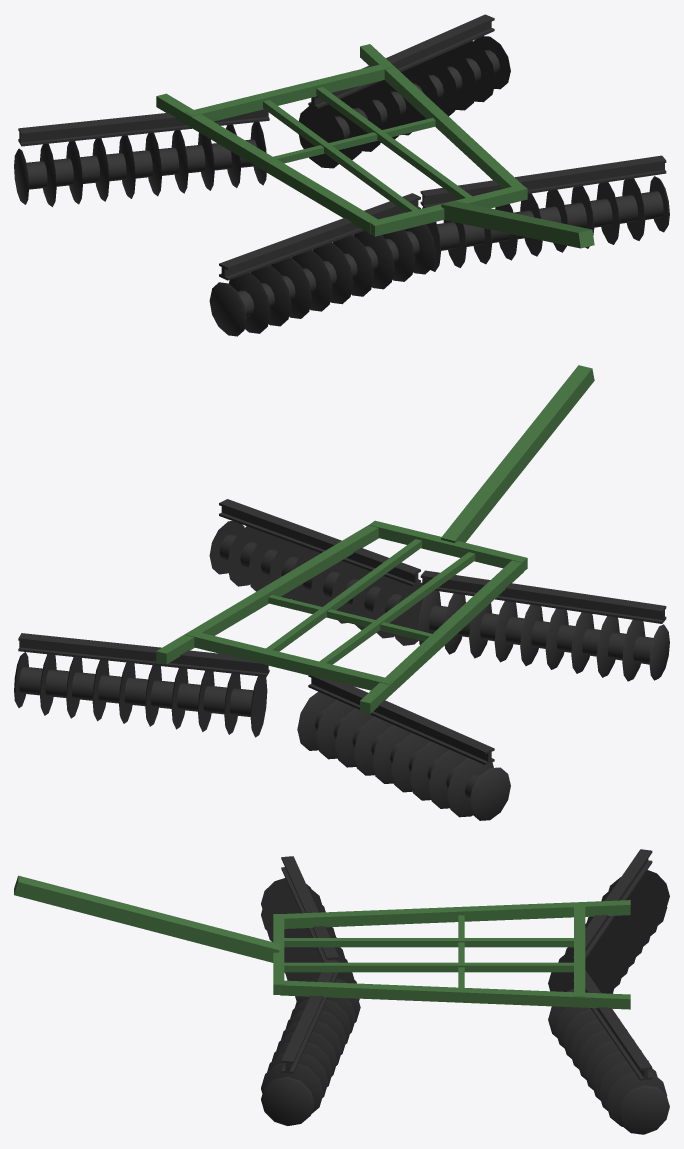
File: plow.fbx
The picture shows the model from 3 angles, top to bottom: view 1: azimuth 30°, elevation 25°; view 2: azimuth 150°, elevation 25°; view 3: azimuth 270°, elevation 25°; orthographic projection. The views are drawn at different scales.
Parts seen in each view (by area): view 1: plow; view 2: plow; view 3: plow.
Part boxes in pixels (x1,y1,x2,y2): plow: (14,14,669,336); plow: (14,365,669,820); plow: (14,849,669,1134).
Bounding box in the file's own units: 347 × 109 × 428.
